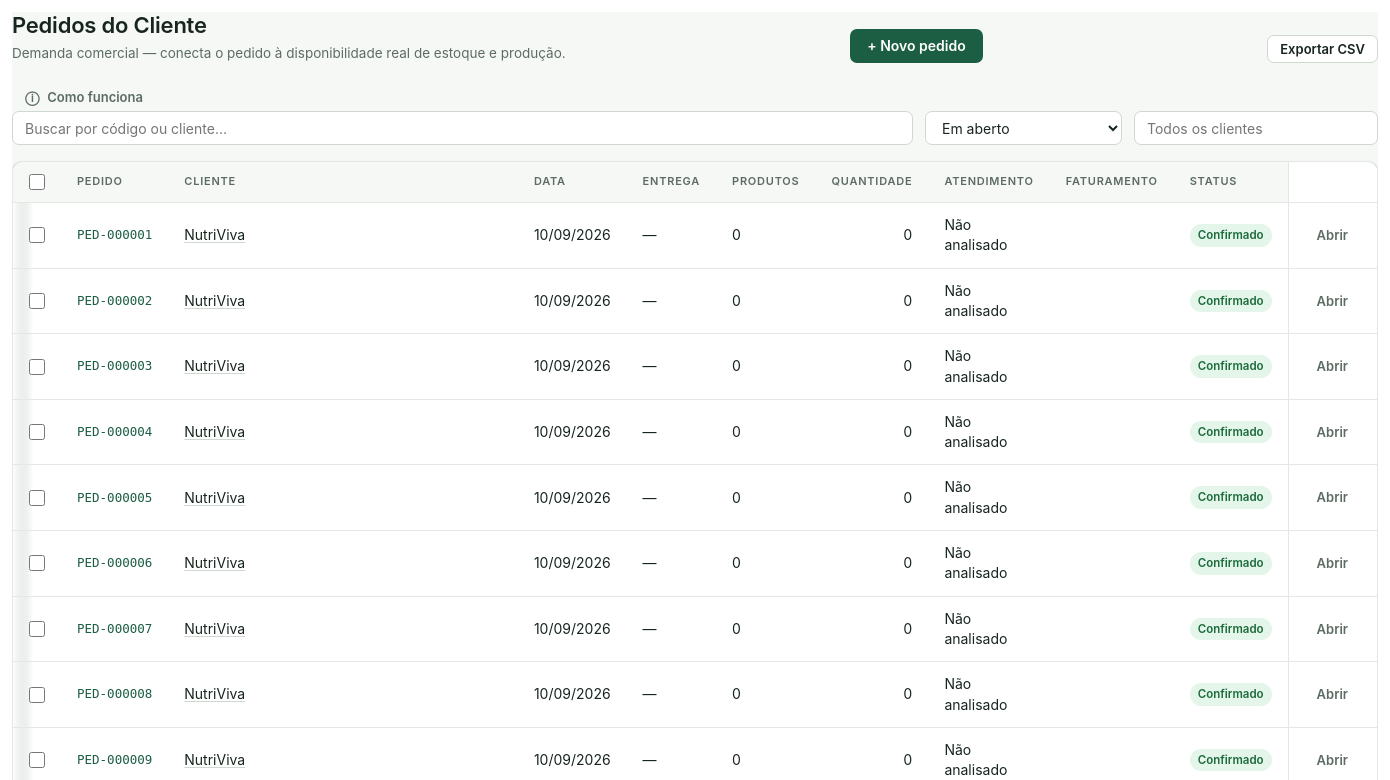
Test: ações documentais na barra da seleção › só existem com seleção, e saem com ela
Expected: the button "Baixar PDF" is not shown
Expected: the button "Exportar selecionados em CSV" is not shown
What coordinates should you click on to do the following:
click the checkbox named "Selecionar pedido PED-000002"
I would click on:
 (37, 301)
Its box is x1=29 y1=293 x2=45 y2=309.
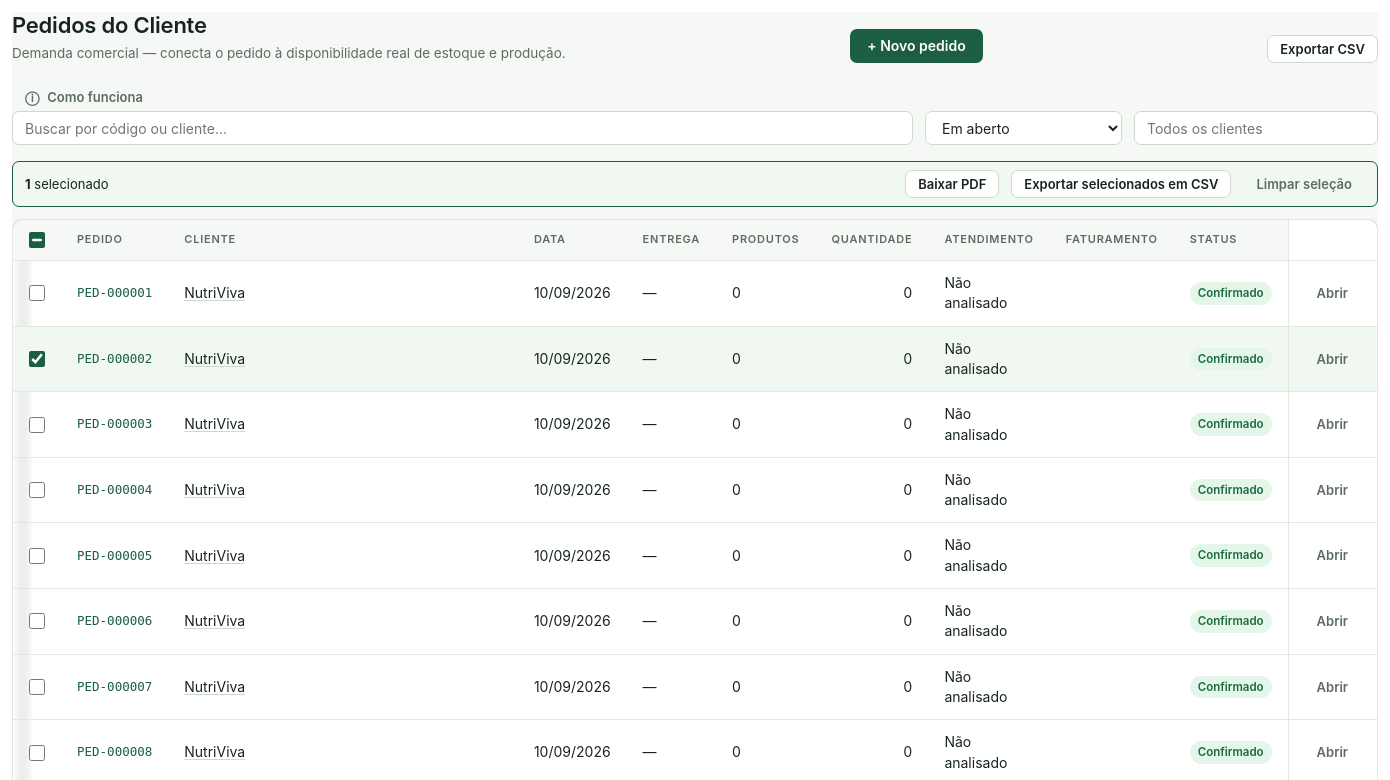
Expected: the button "Baixar PDF" is enabled, x1=905 y1=170 x2=999 y2=198
Expected: the button "Exportar selecionados em CSV" is enabled, x1=1011 y1=170 x2=1231 y2=198
What coordinates should you click on to do the following:
click the button "Limpar seleção"
I would click on:
 (1304, 184)
Its box is x1=1243 y1=170 x2=1365 y2=198.
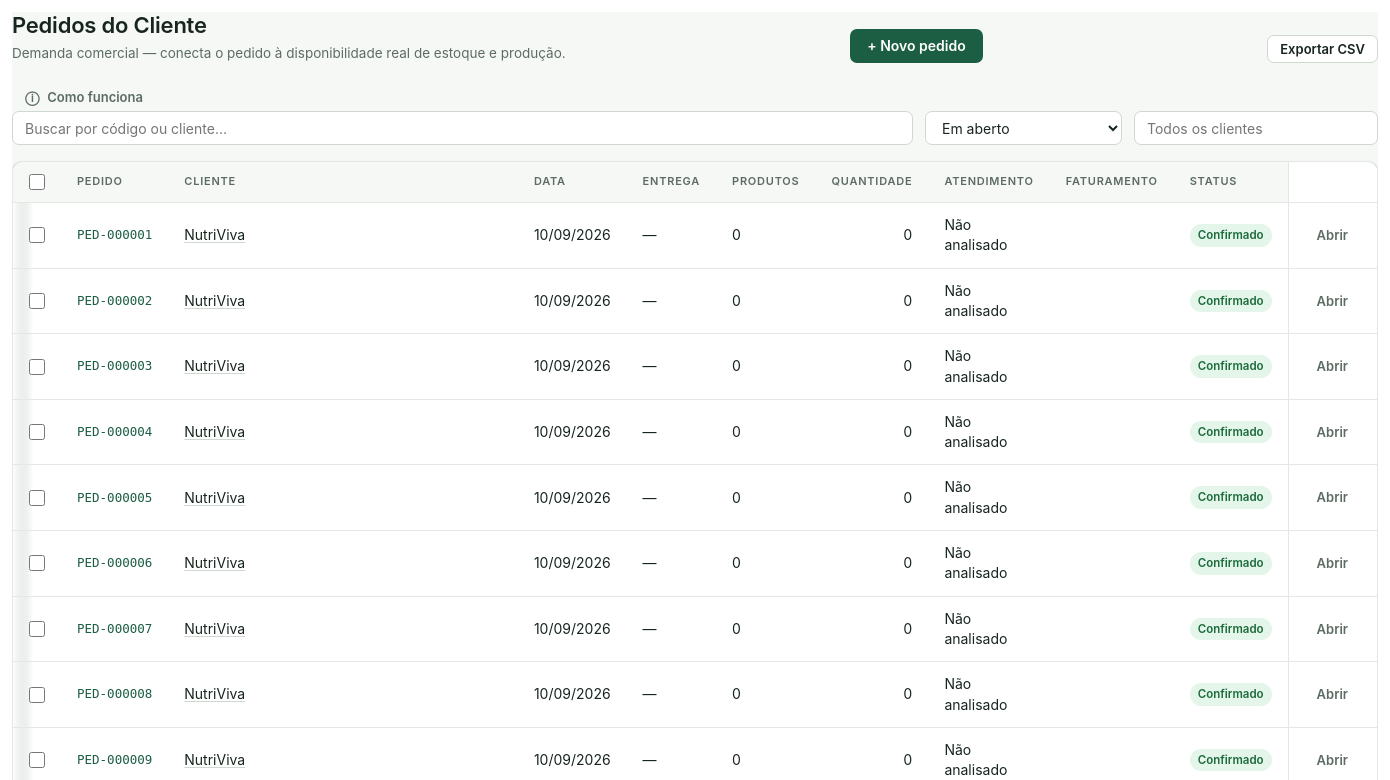
Expected: the button "Baixar PDF" is gone
